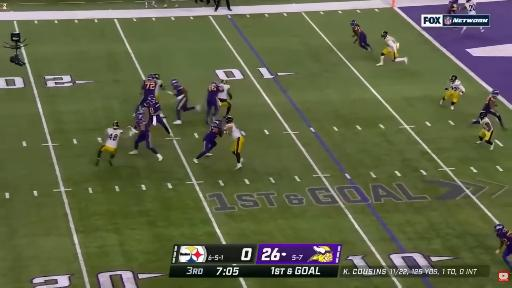Helmet: (490, 89, 499, 97), (350, 20, 358, 27), (480, 112, 487, 120), (450, 75, 457, 83), (149, 96, 156, 103), (136, 113, 143, 120), (215, 119, 222, 126), (226, 116, 233, 123), (113, 121, 119, 129), (172, 79, 179, 85), (382, 31, 388, 38), (148, 74, 154, 80), (210, 81, 217, 85), (154, 74, 159, 79), (221, 80, 227, 84)
Jersey: (225, 123, 244, 153), (203, 124, 223, 141), (479, 118, 493, 141), (207, 84, 221, 106), (106, 128, 122, 147), (142, 80, 158, 98), (496, 230, 511, 248), (135, 114, 149, 133), (225, 123, 241, 139), (145, 100, 161, 115), (482, 96, 495, 113), (384, 36, 398, 51), (449, 80, 465, 93), (208, 84, 221, 99), (217, 84, 230, 99), (481, 118, 493, 132), (173, 84, 185, 97), (465, 1, 476, 14), (352, 24, 362, 37), (155, 80, 162, 97), (449, 0, 457, 12)
Player: (129, 114, 162, 161), (193, 119, 223, 163), (171, 79, 200, 123), (96, 121, 122, 165), (377, 31, 407, 65), (225, 116, 244, 169), (481, 90, 506, 129), (145, 97, 170, 134), (440, 75, 464, 109), (495, 224, 511, 270), (476, 112, 494, 149), (206, 82, 221, 124), (139, 74, 158, 107), (351, 20, 371, 50), (218, 80, 232, 117), (153, 74, 165, 101), (153, 74, 165, 100), (462, 0, 476, 14), (447, 0, 458, 14)
